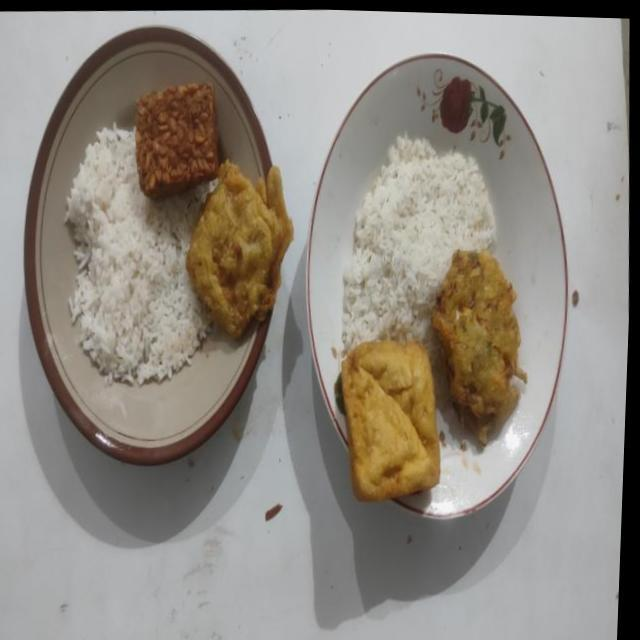nasi_putih: (342, 133, 496, 401), (65, 124, 216, 386)
tahu_goreng: (336, 340, 440, 500)
tempe_goreng: (135, 83, 218, 198)
